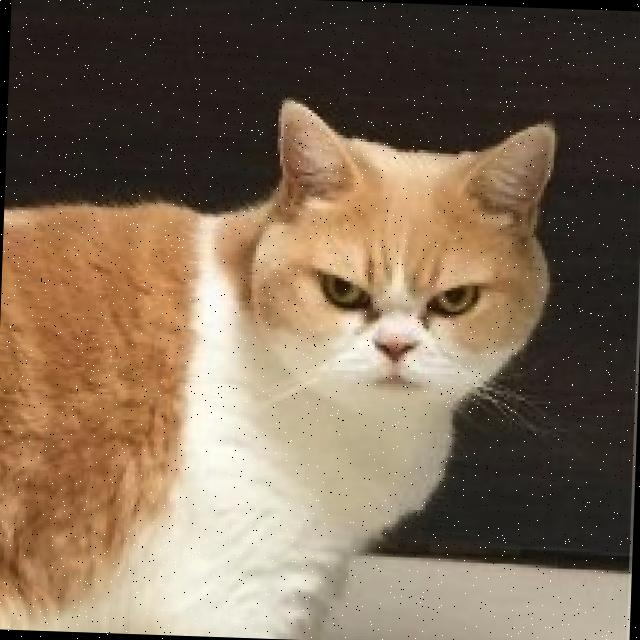Angry: (246, 215, 536, 422)
